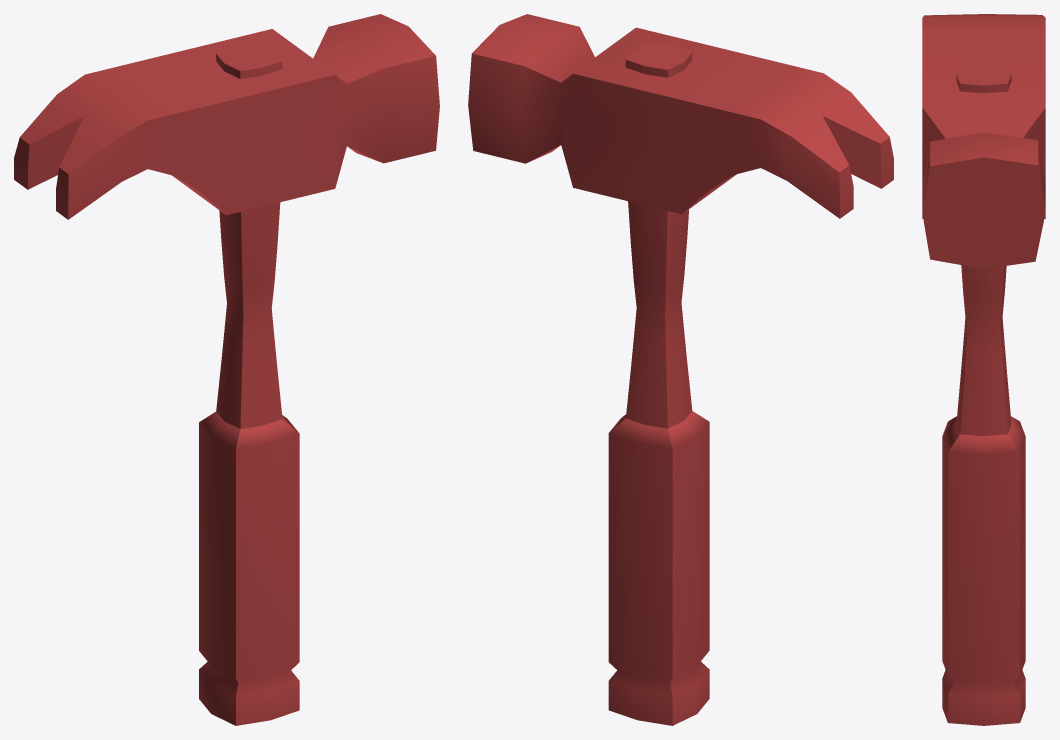
The model's file is hammerexport.obj.
The picture shows the model from 3 angles, left to right: view 1: azimuth 30°, elevation 25°; view 2: azimuth 150°, elevation 25°; view 3: azimuth 270°, elevation 25°; orthographic projection. The views are drawn at different scales.
Visible parts, largest first — view 1: hammerhead handle, handle; view 2: hammerhead handle, handle; view 3: handle, hammerhead handle.
Boxes of the visible parts, left/top/right/bottom form: hammerhead handle: left=14, top=14, right=439, bottom=219; handle: left=199, top=43, right=299, bottom=725; hammerhead handle: left=468, top=14, right=893, bottom=218; handle: left=608, top=42, right=709, bottom=725; handle: left=942, top=61, right=1025, bottom=725; hammerhead handle: left=922, top=14, right=1045, bottom=268.
Bounding box in the file's own units: 4.88 × 8.23 × 1.45.
